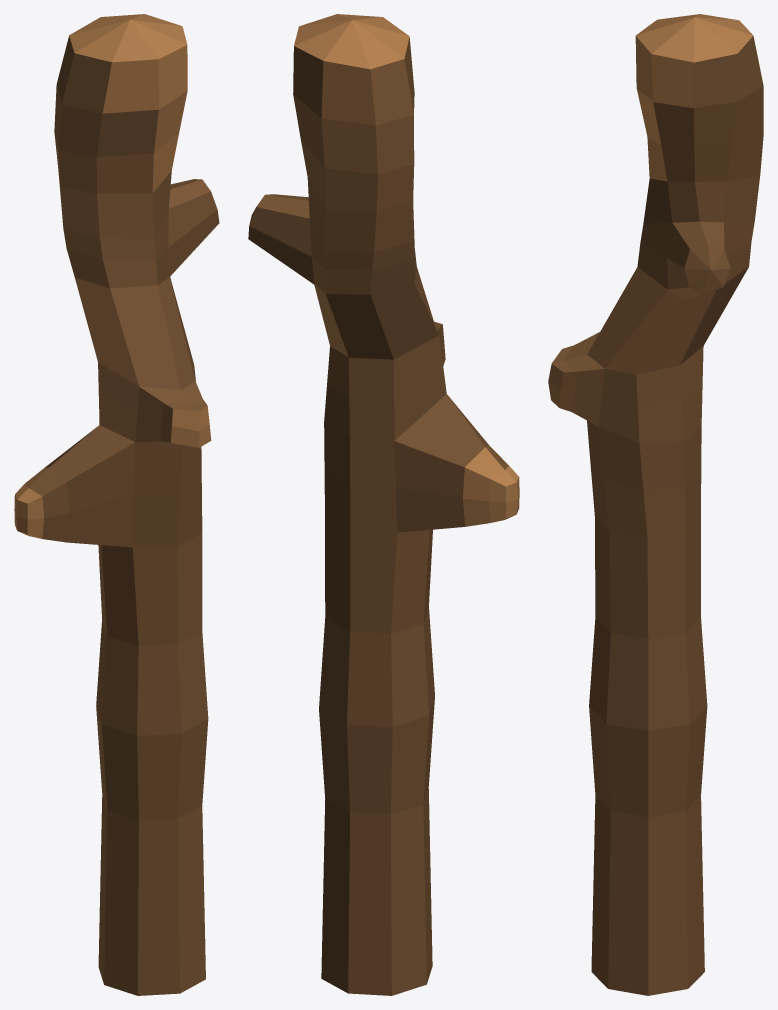
Rendered from Madeira.fbx.
3 renders of one model, left to right at view 1: azimuth 30°, elevation 25°; view 2: azimuth 150°, elevation 25°; view 3: azimuth 270°, elevation 25°, orthographic. The views are drawn at different scales.
Parts seen in each view (by area): view 1: Madeira; view 2: Madeira; view 3: Madeira.
Boxes of the visible parts, x1,y1,x2,y2 form: Madeira: [14, 14, 219, 995]; Madeira: [248, 14, 519, 995]; Madeira: [548, 14, 763, 995].
Size of the model in its own units: 11.85 by 46.8 by 9.58.
